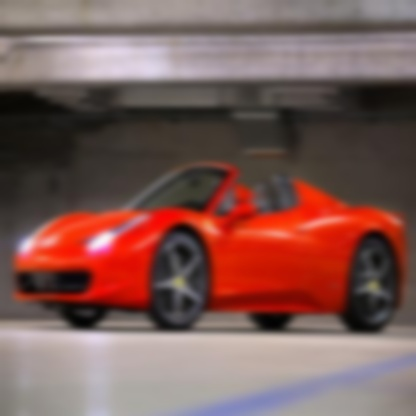Vehicle: (14, 164, 406, 334)
